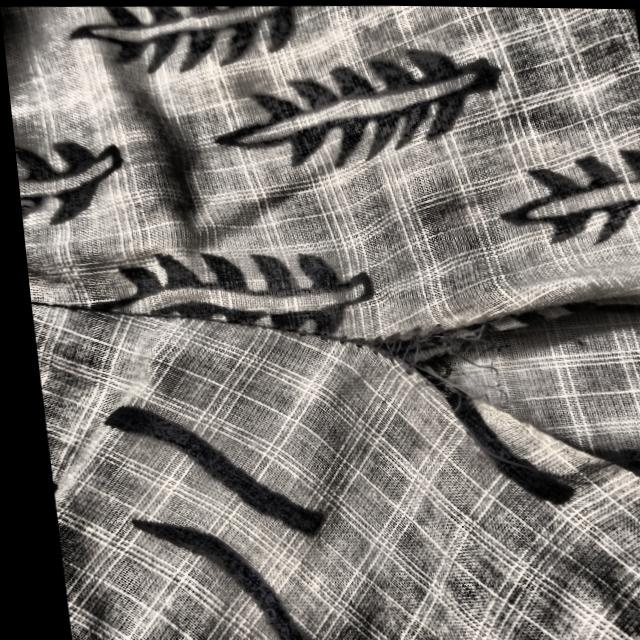Stitch: (343, 269, 640, 525)
